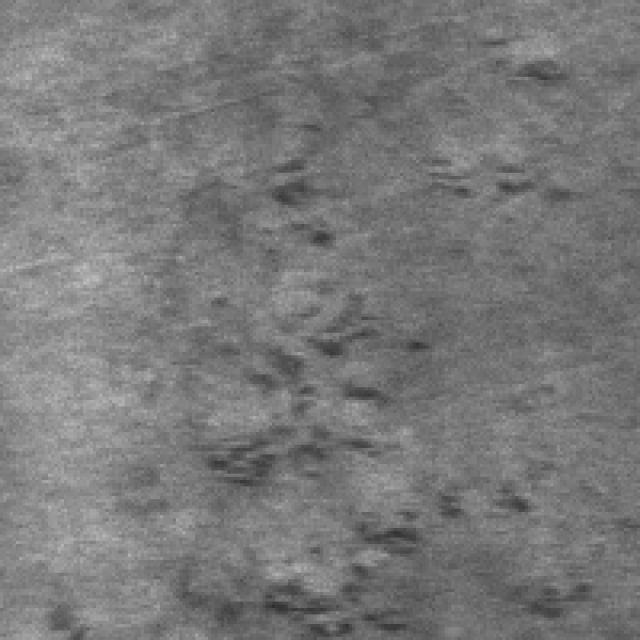rolled-in_scale: (192, 147, 419, 634), (410, 470, 634, 621), (403, 134, 576, 221)
